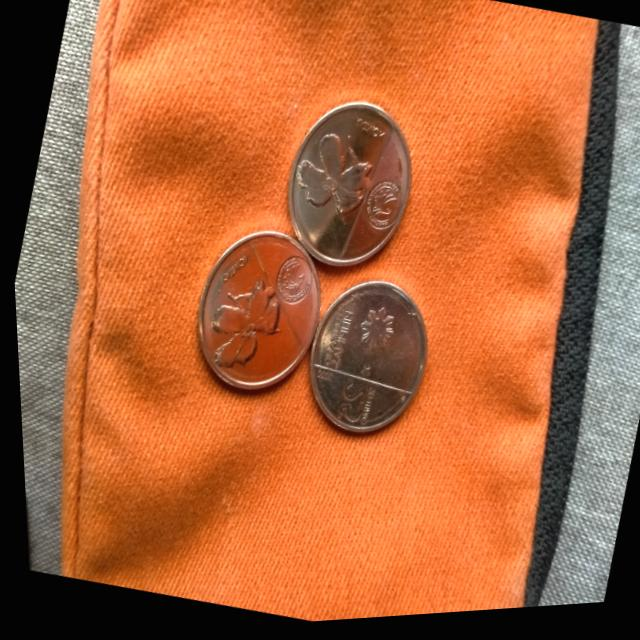25Cent_New_Back: (283, 125, 379, 239), (190, 274, 284, 390)
25Cent_New_Front: (322, 379, 367, 432)
